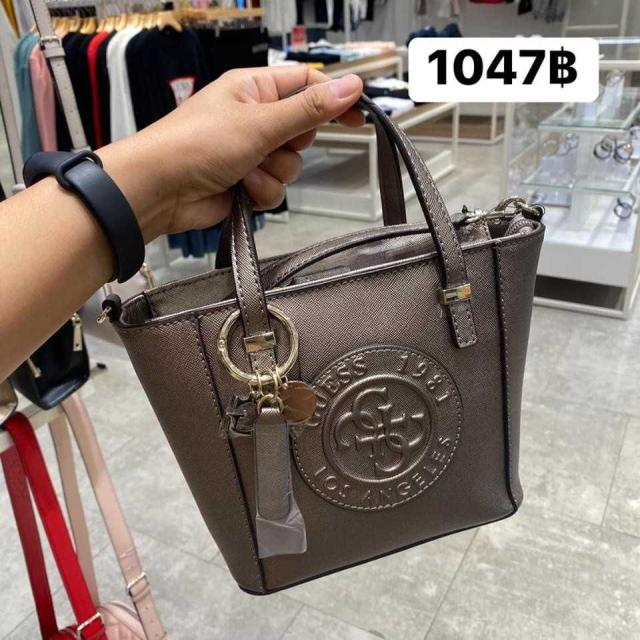handbag: (88, 64, 560, 600)
